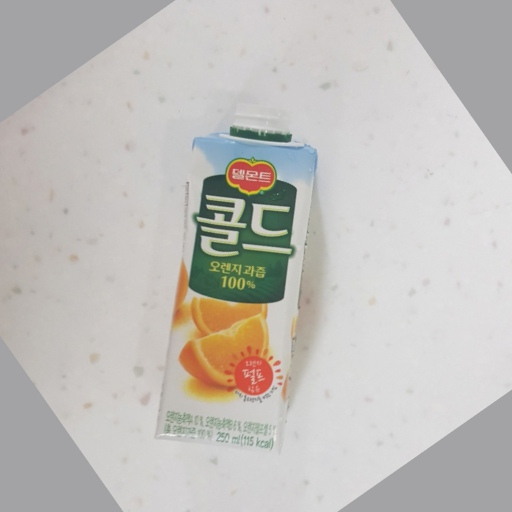Paper_0: (149, 112, 327, 457)
